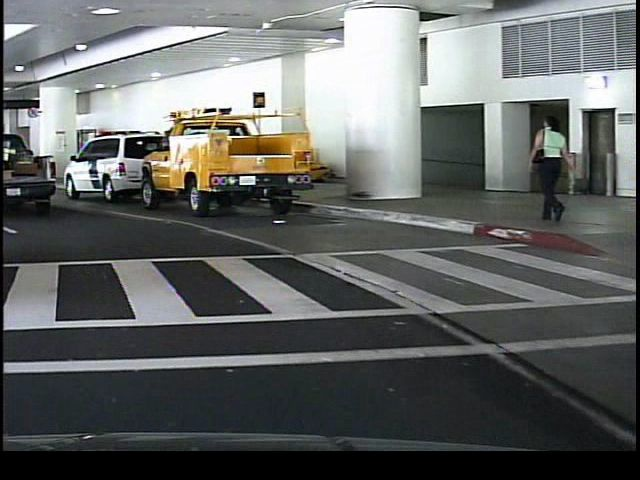person: (521, 112, 571, 228)
